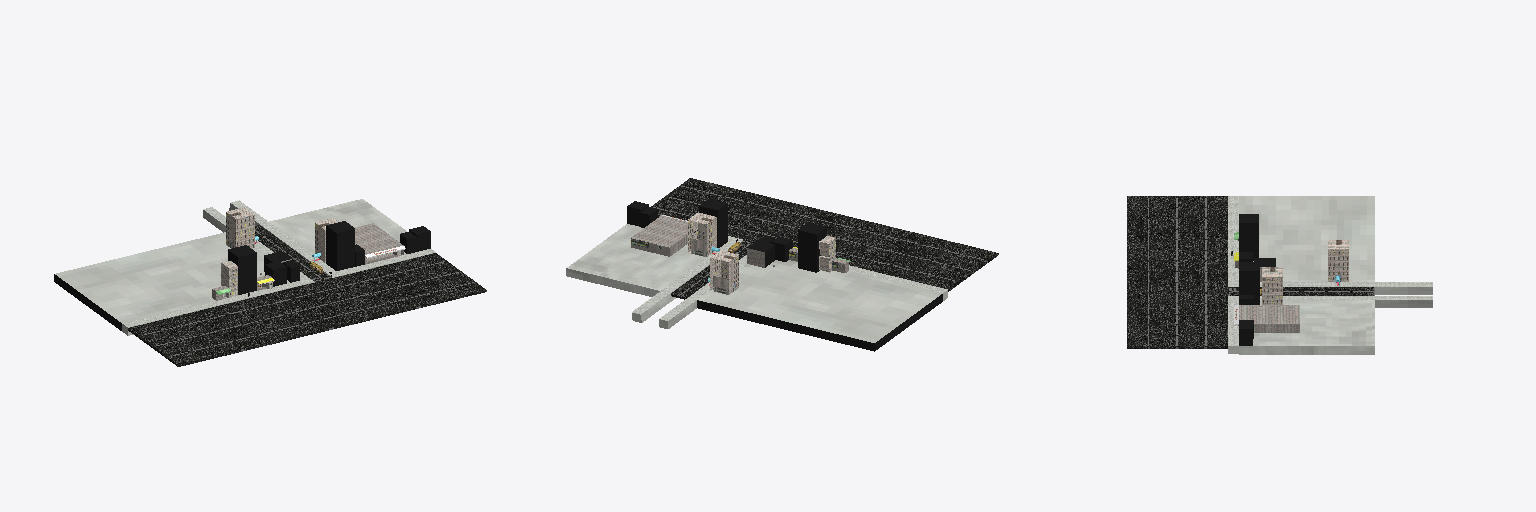
3 views of the same model, side by side, from view 1: azimuth 30°, elevation 25°; view 2: azimuth 150°, elevation 25°; view 3: azimuth 270°, elevation 25° (orthographic).
Parts seen in each view (by area): view 1: Cube.018, Cube.022_Cube.023, Cube.000_Cube.026, Cube.000_Cube.002, Cube.002_Cube.001, Cube.002, Cube.017_Cube.027, Cube.007, Cube.011, Cube.002_Cube.014, Cube.003_Cube.013; view 2: Cube.022_Cube.023, Cube.018, Cube.000_Cube.026, Cube.017_Cube.027, Cube.002_Cube.014, Cube.002_Cube.001, Cube.002_Cube.003, Cube.007, Cube.003_Cube.013, Cube.000_Cube.002, Cube.011, Cube.002_Cube.000 (+1 smaller); view 3: Cube.018, Cube.022_Cube.023, Cube.000_Cube.026, Cube.017_Cube.027, Cube.003_Cube.013, Cube.000_Cube.002, Cube.002_Cube.014, Cube.011, Cube.002_Cube.001, Cube.002, Cube.007, Cube.002_Cube.003.
Part boxes in pixels (left/top/right/bottom): Cube.018: left=128, top=253, right=486, bottom=366; Cube.022_Cube.023: left=54, top=232, right=289, bottom=330; Cube.000_Cube.026: left=269, top=199, right=406, bottom=270; Cube.000_Cube.002: left=326, top=221, right=435, bottom=275; Cube.002_Cube.001: left=226, top=207, right=254, bottom=248; Cube.002: left=122, top=281, right=304, bottom=335; Cube.017_Cube.027: left=355, top=223, right=403, bottom=264; Cube.007: left=228, top=245, right=256, bottom=294; Cube.011: left=255, top=225, right=330, bottom=281; Cube.002_Cube.014: left=229, top=200, right=341, bottom=277; Cube.003_Cube.013: left=203, top=207, right=314, bottom=284; Cube.022_Cube.023: left=697, top=260, right=942, bottom=351; Cube.018: left=651, top=178, right=998, bottom=291; Cube.000_Cube.026: left=566, top=224, right=706, bottom=296; Cube.017_Cube.027: left=631, top=215, right=691, bottom=256; Cube.002_Cube.014: left=632, top=237, right=742, bottom=322; Cube.002_Cube.001: left=710, top=250, right=738, bottom=294; Cube.002_Cube.003: left=688, top=212, right=716, bottom=256; Cube.007: left=798, top=222, right=826, bottom=272; Cube.003_Cube.013: left=659, top=255, right=746, bottom=328; Cube.000_Cube.002: left=699, top=199, right=733, bottom=247; Cube.011: left=671, top=240, right=752, bottom=299; Cube.002_Cube.000: left=747, top=240, right=774, bottom=267; Cube.018: left=1127, top=196, right=1227, bottom=348; Cube.022_Cube.023: left=1239, top=196, right=1374, bottom=281; Cube.000_Cube.026: left=1239, top=300, right=1374, bottom=354; Cube.017_Cube.027: left=1238, top=305, right=1299, bottom=332; Cube.003_Cube.013: left=1228, top=282, right=1432, bottom=294; Cube.000_Cube.002: left=1228, top=262, right=1259, bottom=353; Cube.002_Cube.014: left=1228, top=296, right=1432, bottom=307; Cube.011: left=1228, top=287, right=1374, bottom=295; Cube.002_Cube.001: left=1328, top=240, right=1348, bottom=281; Cube.002: left=1228, top=196, right=1238, bottom=281; Cube.007: left=1239, top=214, right=1258, bottom=260; Cube.002_Cube.003: left=1262, top=267, right=1282, bottom=304.
Bounding box in the file's own units: 613 × 88.58 × 527.
Materials: 59 (13 with a texture image).